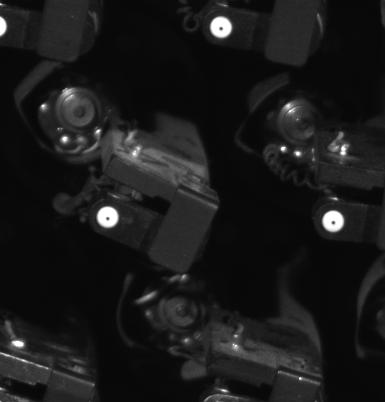fiber: (318, 208, 349, 236), (94, 202, 122, 231), (207, 13, 237, 40)
